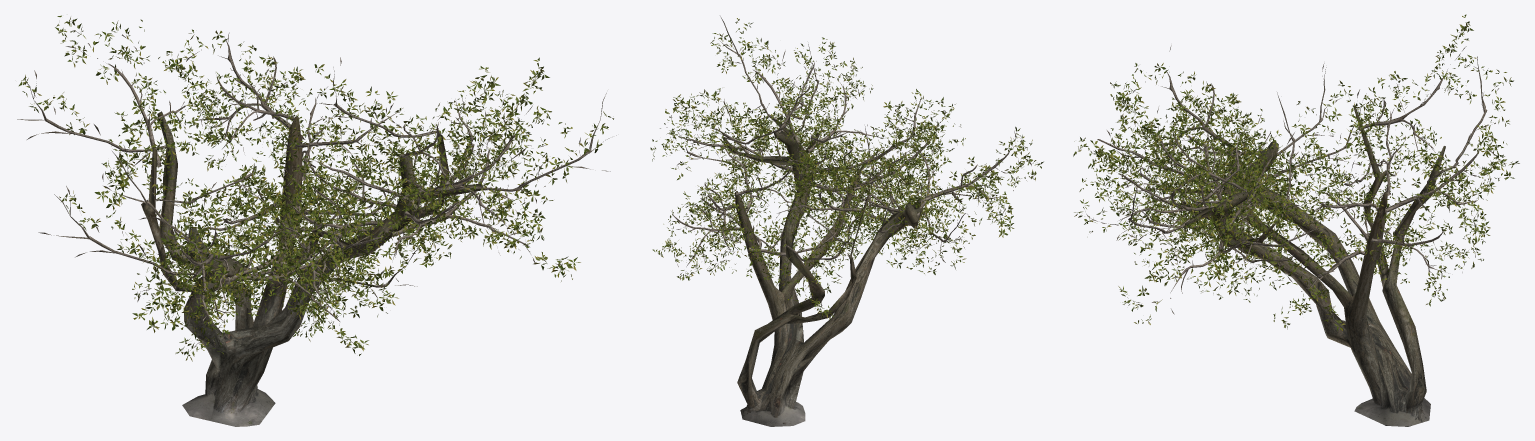
The model's file is tree-near-v2.glb.
The picture shows the model from 3 angles, left to right: view 1: azimuth 30°, elevation 25°; view 2: azimuth 150°, elevation 25°; view 3: azimuth 270°, elevation 25°; orthographic projection. The views are drawn at different scales.
Parts seen in each view (by area): view 1: island_tree_02_LOD0; view 2: island_tree_02_LOD0; view 3: island_tree_02_LOD0.
Boxes of the visible parts, x1,y1,x2,y2 form: island_tree_02_LOD0: (17, 15, 616, 426); island_tree_02_LOD0: (650, 16, 1043, 426); island_tree_02_LOD0: (1073, 14, 1519, 426).
Bounding box in the file's own units: 4.11 × 3.4 × 4.04.
3 materials, 3 textured.
